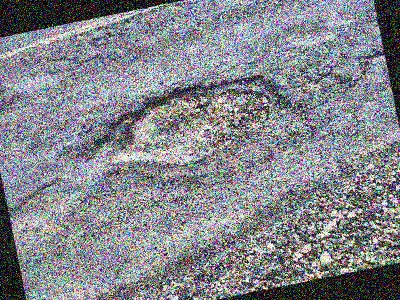pothole: (76, 60, 311, 189)
